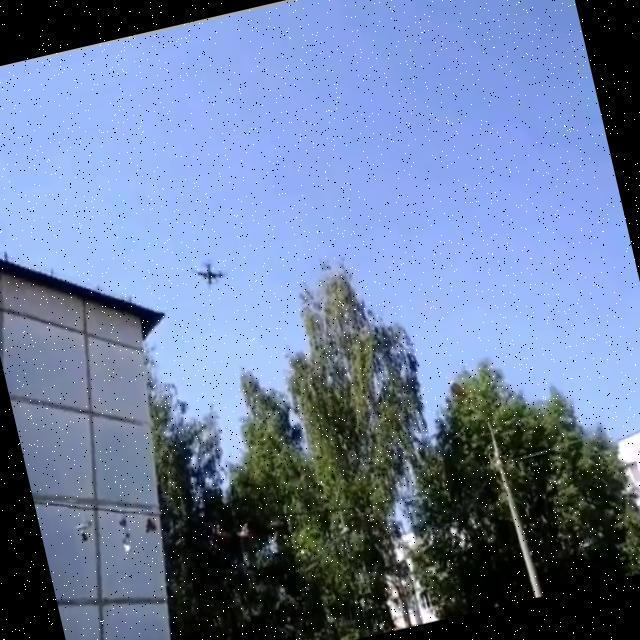Drons: (183, 253, 235, 297)
